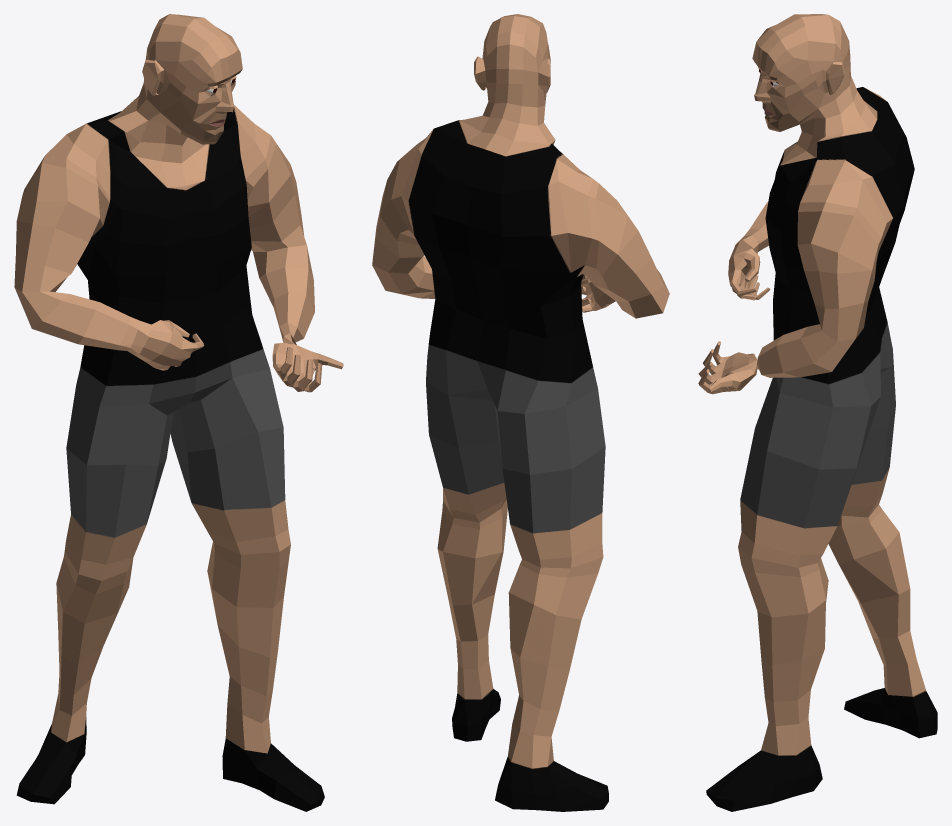
File: PlayerIdle(172).obj
3 renders of one model, left to right at view 1: azimuth 30°, elevation 25°; view 2: azimuth 150°, elevation 25°; view 3: azimuth 270°, elevation 25°, orthographic. The views are drawn at different scales.
Visible parts, largest first — view 1: Plane002; view 2: Plane002; view 3: Plane002.
Boxes of the visible parts, x1=… form: Plane002: x1=14, y1=14, x2=343, y2=811; Plane002: x1=372, y1=14, x2=669, y2=811; Plane002: x1=698, y1=14, x2=937, y2=811.
Bounding box in the file's own units: 716 × 1799 × 520.
